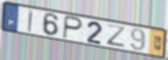2: (85, 20, 105, 46)
6: (43, 12, 61, 38)
9: (130, 27, 146, 52)
I: (27, 9, 35, 34)
P: (62, 14, 84, 40)
Z: (106, 24, 128, 49)
